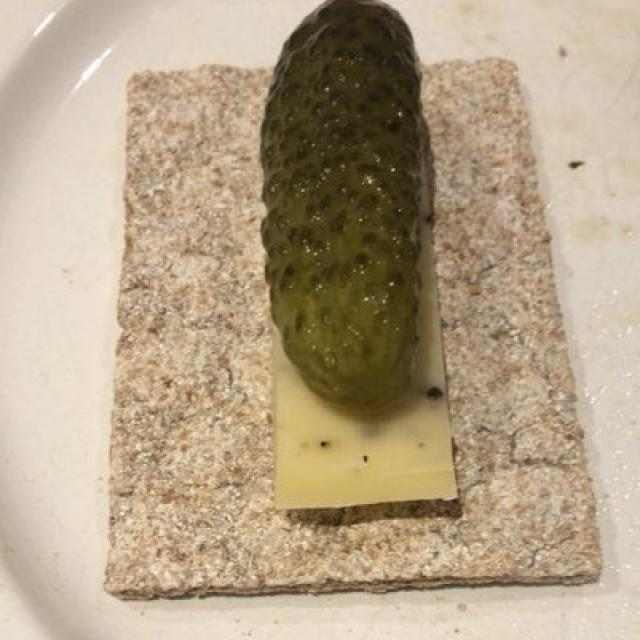crisp-bread-wasa: (121, 75, 612, 597)
cucumber-pickled: (264, 4, 421, 425)
semi-hard-cheese: (270, 144, 462, 516)
